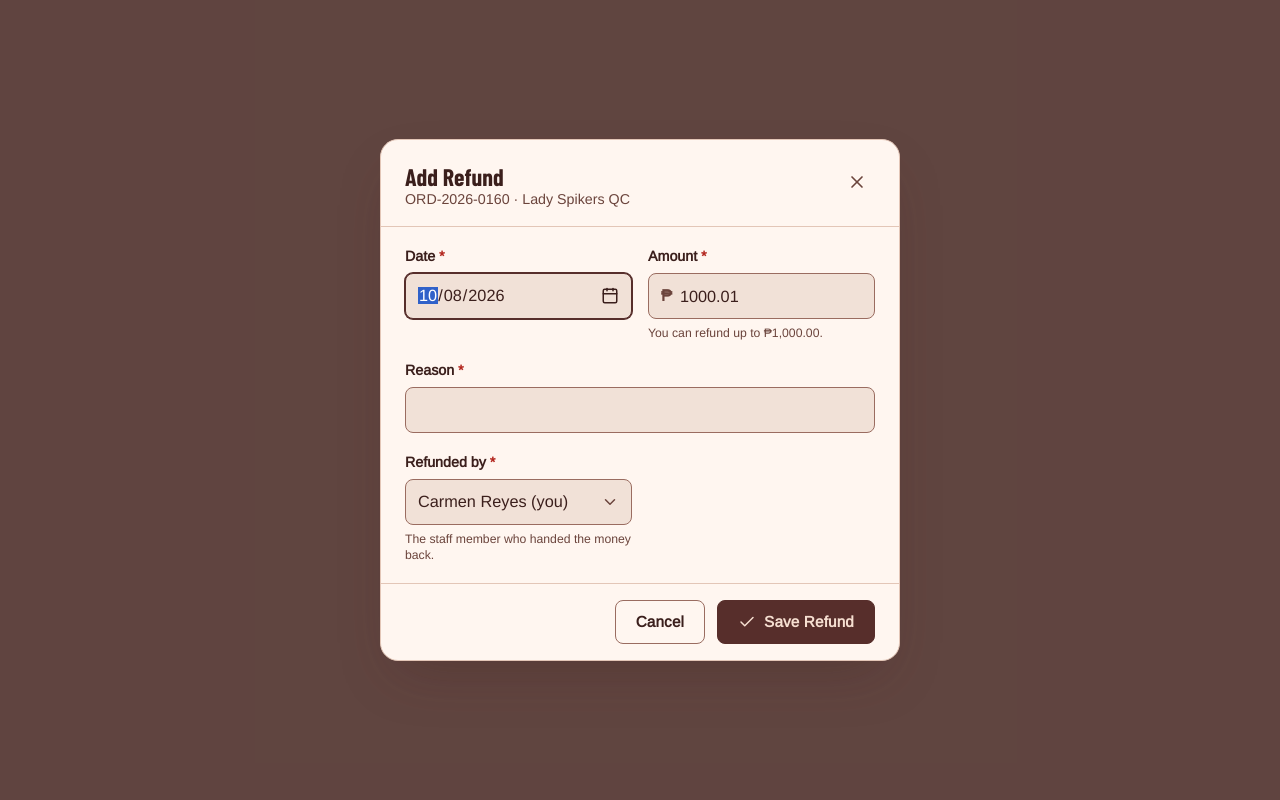
Scenario: add mode checks before any request (OR-3) › refuses more than the customer credit in the server words and sends nothing
In the field labelled "Reason *": (640, 410) [406,388,874,432], type "Customer changed the order"
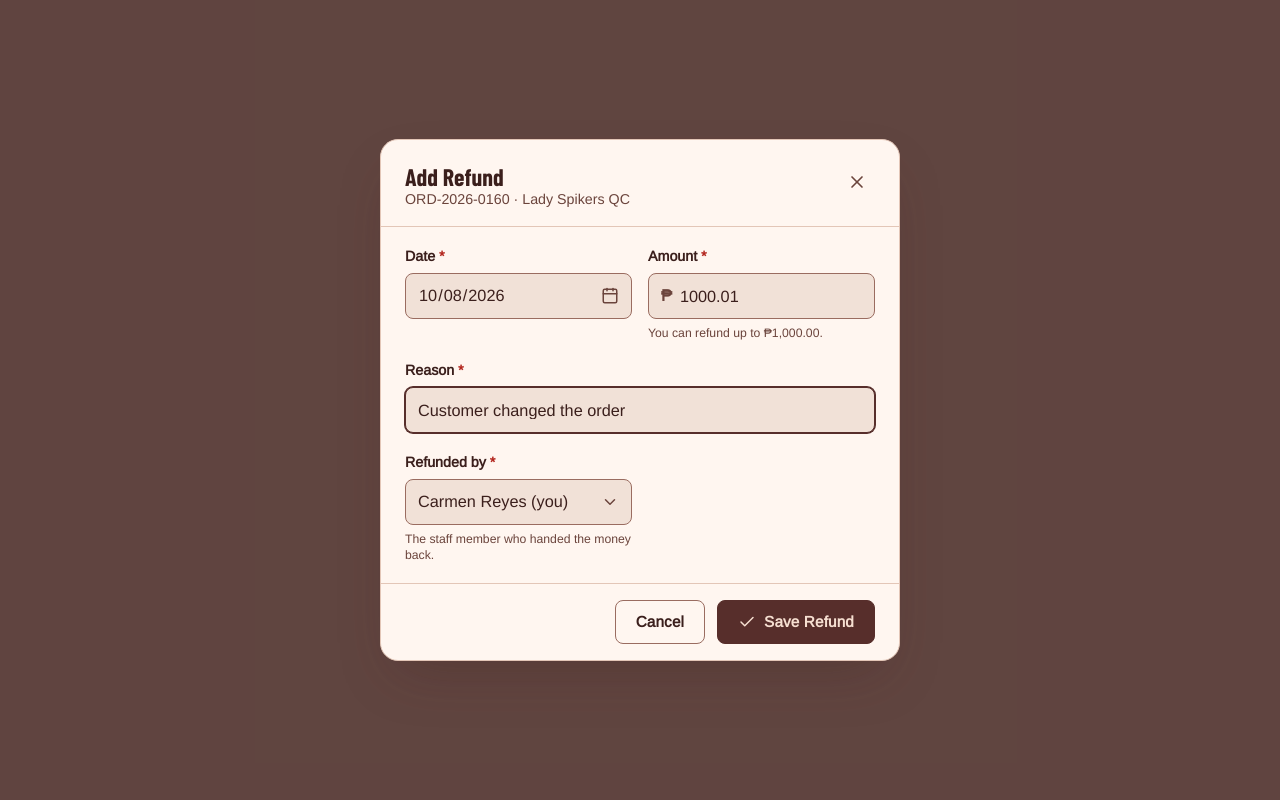
Click the button "Save Refund": (796, 622) [717,600,875,644]
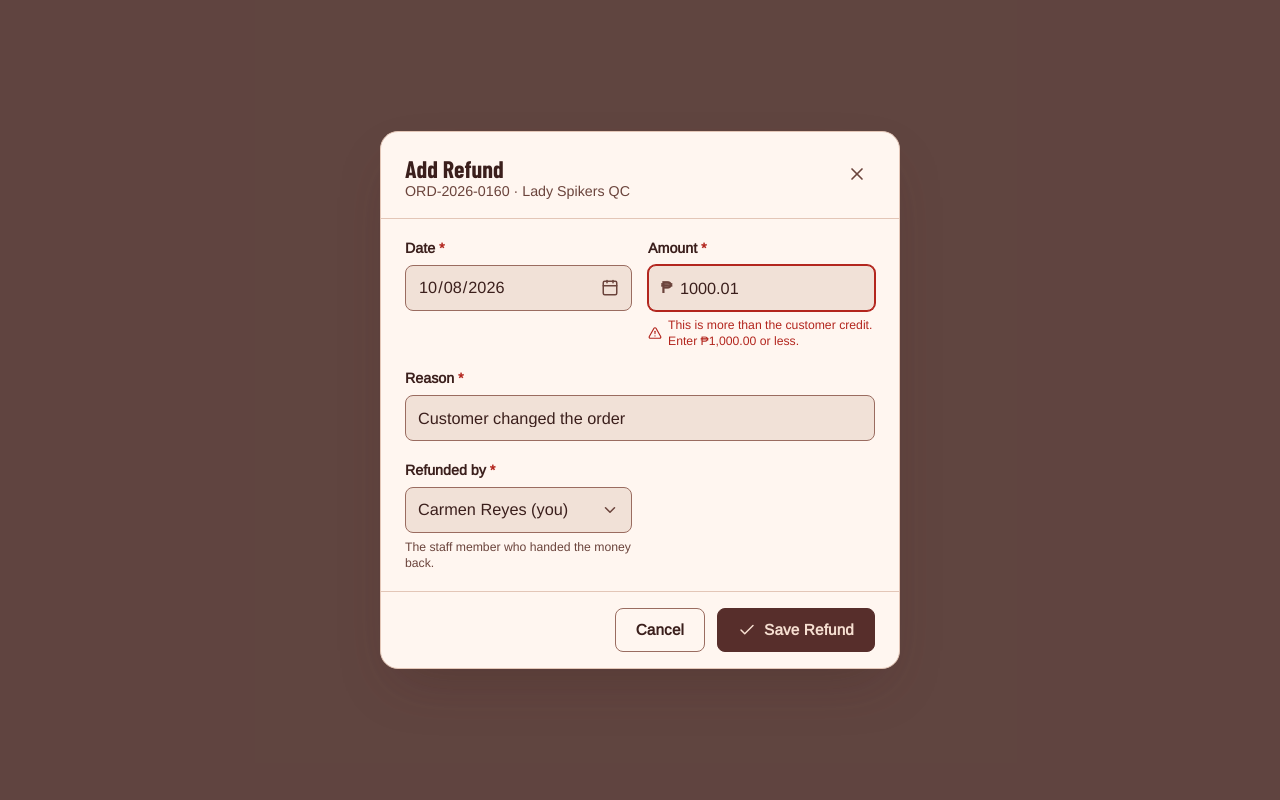
Check: the text "This is more than the customer credit. Enter ₱1,000.00 or less." is shown, box [648,317,875,349]
